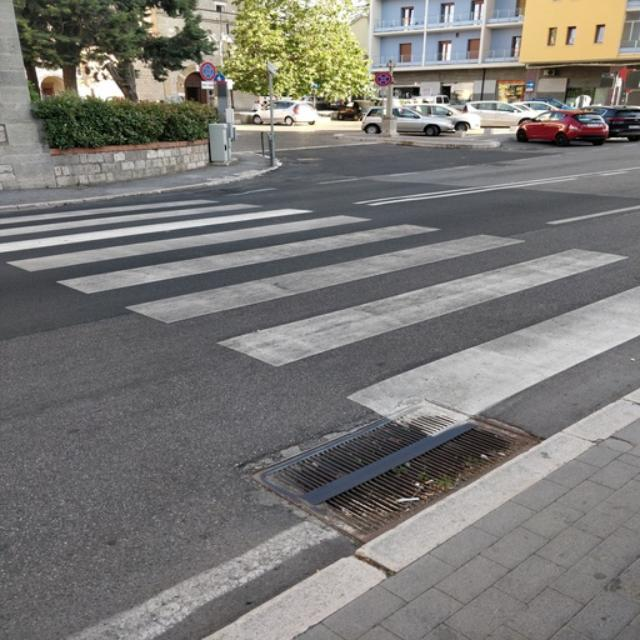sidewalk: (0, 193, 640, 445)
